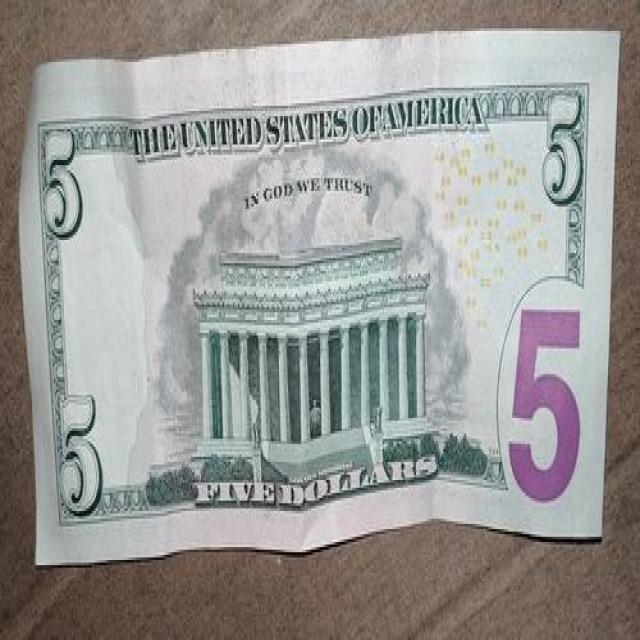5-Back: (20, 28, 621, 566)
